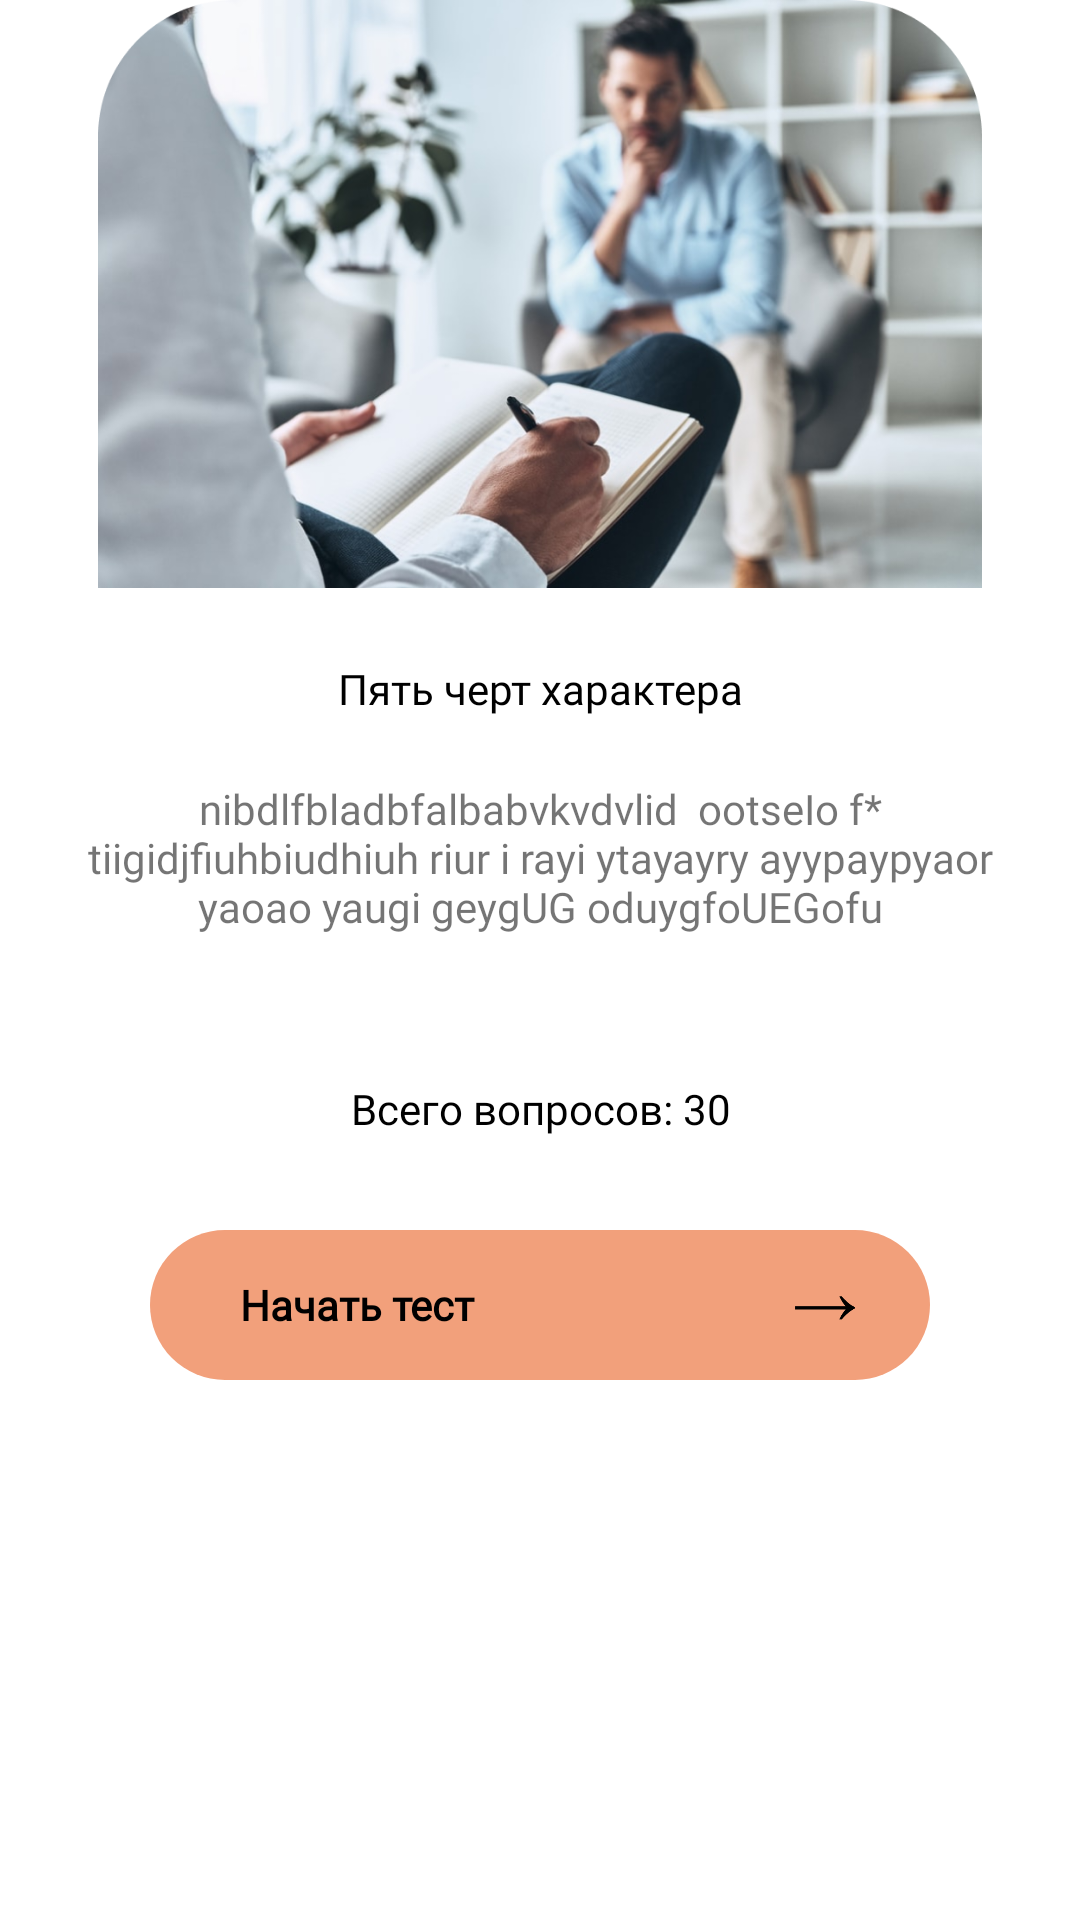

Where icons sit on this 1080x1920 app screen, as (x1=x1, y1=y1, x2=x2, y2=y2):
arrow right: (x1=795, y1=1296, x2=855, y2=1320)
